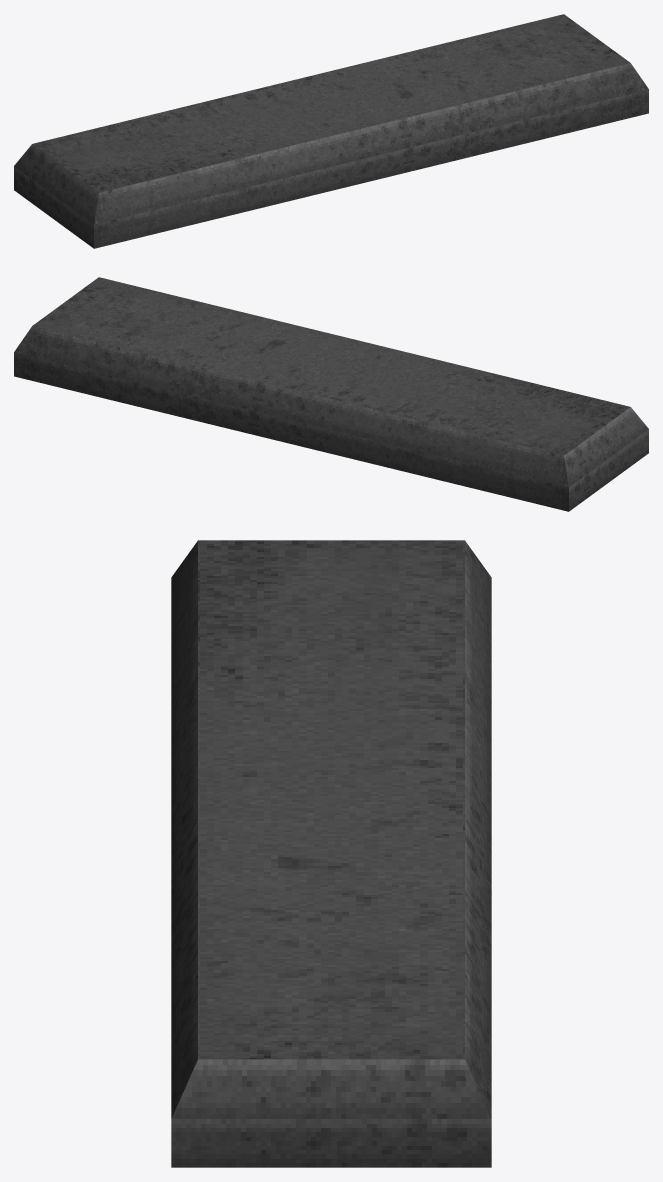
Rendered from ceiling_lamp_4_off.glb.
The picture shows the model from 3 angles, top to bottom: view 1: azimuth 30°, elevation 25°; view 2: azimuth 150°, elevation 25°; view 3: azimuth 270°, elevation 25°; orthographic projection. The views are drawn at different scales.
Parts seen in each view (by area): view 1: ceiling_lamp_4_off; view 2: ceiling_lamp_4_off; view 3: ceiling_lamp_4_off.
Boxes of the visible parts, x1=… form: ceiling_lamp_4_off: x1=14, y1=14, x2=648, y2=248; ceiling_lamp_4_off: x1=14, y1=277, x2=648, y2=511; ceiling_lamp_4_off: x1=171, y1=540, x2=491, y2=1167.
Size of the model in its own units: 1.2 by 0.1 by 0.3.
1 material, 1 textured.
